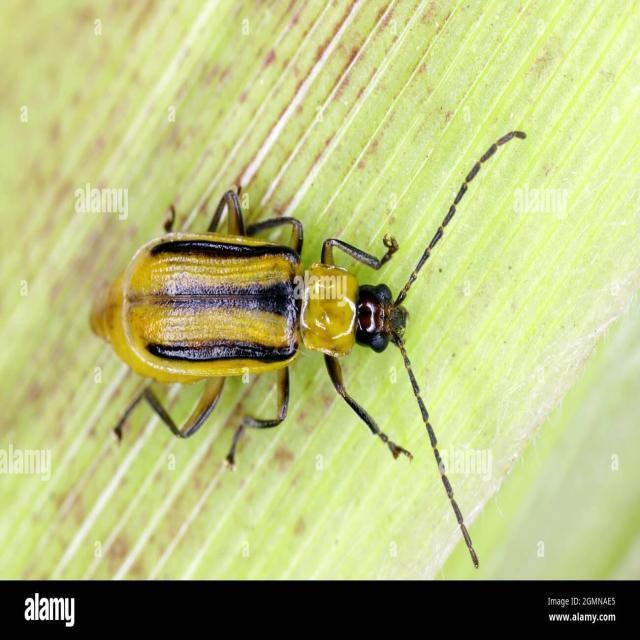trips: (76, 116, 538, 500)
